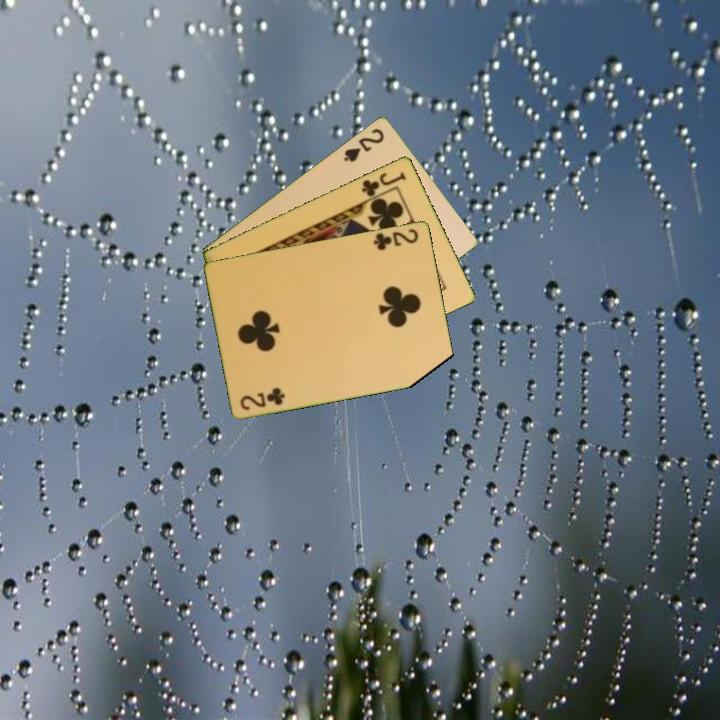2c: (370, 225, 422, 253), (237, 385, 288, 413)
2s: (340, 124, 387, 164)
Jc: (358, 168, 409, 199)
